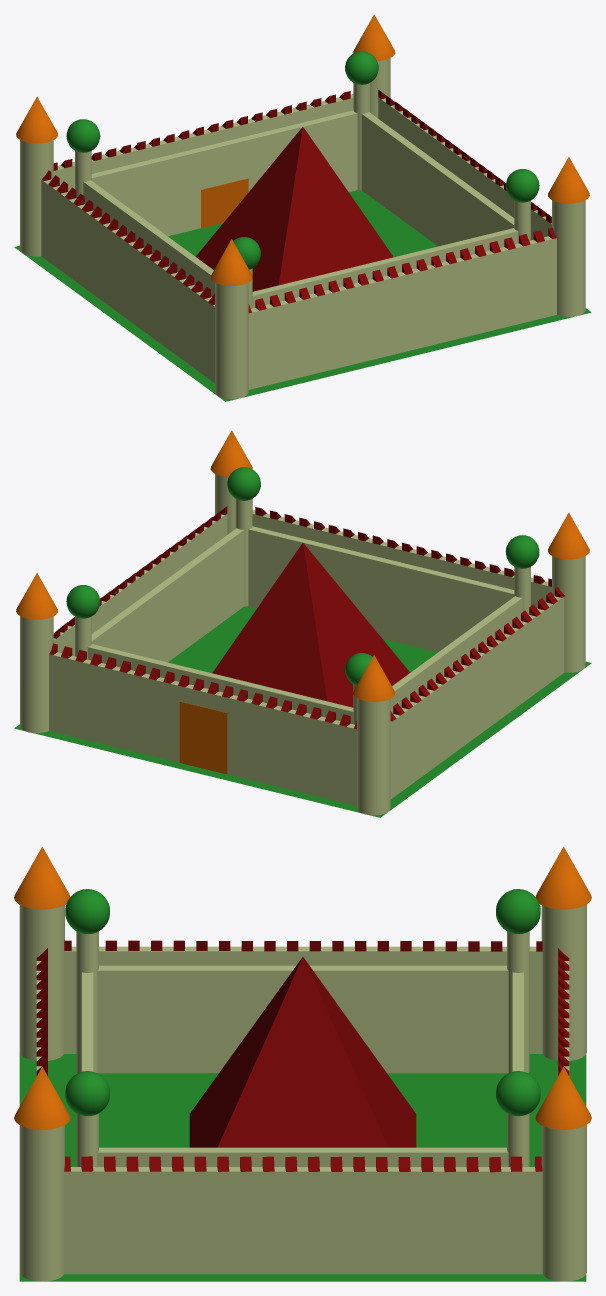
The model's file is Castle.fbx.
3 renders of one model, top to bottom at view 1: azimuth 30°, elevation 25°; view 2: azimuth 150°, elevation 25°; view 3: azimuth 270°, elevation 25°, orthographic. The views are drawn at different scales.
Parts seen in each view (by area): view 1: Rectangle__1_, Pyramid, Rectangle__7_, Rectangle__3_, Rectangle__5_, Plane, Rectangle, Cylinder__3_, Rectangle__2_, Cylinder__2_, Rectangle__4_, Rectangle__6_ (+14 smaller); view 2: Rectangle, Pyramid, Rectangle__4_, Rectangle__7_, Rectangle__5_, Plane, Rectangle__1_, Cylinder, Rectangle__2_, Cylinder__1_, Rectangle__3_, Rectangle__6_ (+14 smaller); view 3: Rectangle__2_, Rectangle__6_, Pyramid, Plane, Rectangle__7_, Cylinder__2_, Cylinder__1_, Rectangle__5_, Cylinder__3_, Cylinder, Cone, Cone__3_ (+12 smaller).
Boxes of the visible parts, box(x1,y1,x2,y2) form: Rectangle__1_: box(248, 236, 556, 389); Pyramid: box(195, 127, 393, 291); Rectangle__7_: box(41, 179, 214, 382); Rectangle__3_: box(91, 110, 357, 236); Rectangle__5_: box(361, 112, 514, 246); Plane: box(14, 190, 591, 401); Rectangle: box(53, 94, 353, 191); Cylinder__3_: box(215, 282, 248, 399); Rectangle__2_: box(378, 97, 551, 240); Cylinder__2_: box(552, 200, 585, 316); Rectangle__4_: box(252, 228, 518, 307); Rectangle__6_: box(83, 180, 214, 296); Rectangle: box(49, 652, 356, 805); Pyramid: box(212, 543, 410, 707); Rectangle__4_: box(248, 526, 514, 652); Rectangle__7_: box(390, 596, 564, 799); Rectangle__5_: box(91, 528, 244, 662); Plane: box(14, 606, 591, 817); Rectangle__1_: box(252, 510, 551, 608); Cylinder: box(357, 698, 390, 815); Rectangle__2_: box(53, 514, 227, 656); Cylinder__1_: box(20, 616, 53, 733); Rectangle__3_: box(87, 644, 353, 723); Rectangle__6_: box(390, 596, 522, 713); Rectangle__2_: box(64, 1167, 542, 1274); Rectangle__6_: box(97, 965, 508, 1073); Pyramid: box(189, 957, 416, 1147); Plane: box(19, 1052, 586, 1281); Rectangle__7_: box(64, 946, 542, 1053); Cylinder__2_: box(19, 1125, 64, 1281); Cylinder__1_: box(541, 1125, 586, 1281); Rectangle__5_: box(97, 1147, 508, 1166); Cylinder__3_: box(19, 905, 64, 1060); Cylinder: box(541, 904, 586, 1060); Cone: box(14, 1067, 70, 1129); Cone__3_: box(535, 1067, 591, 1129).
Size of the model in its own units: 5100 by 2000 by 5100.
